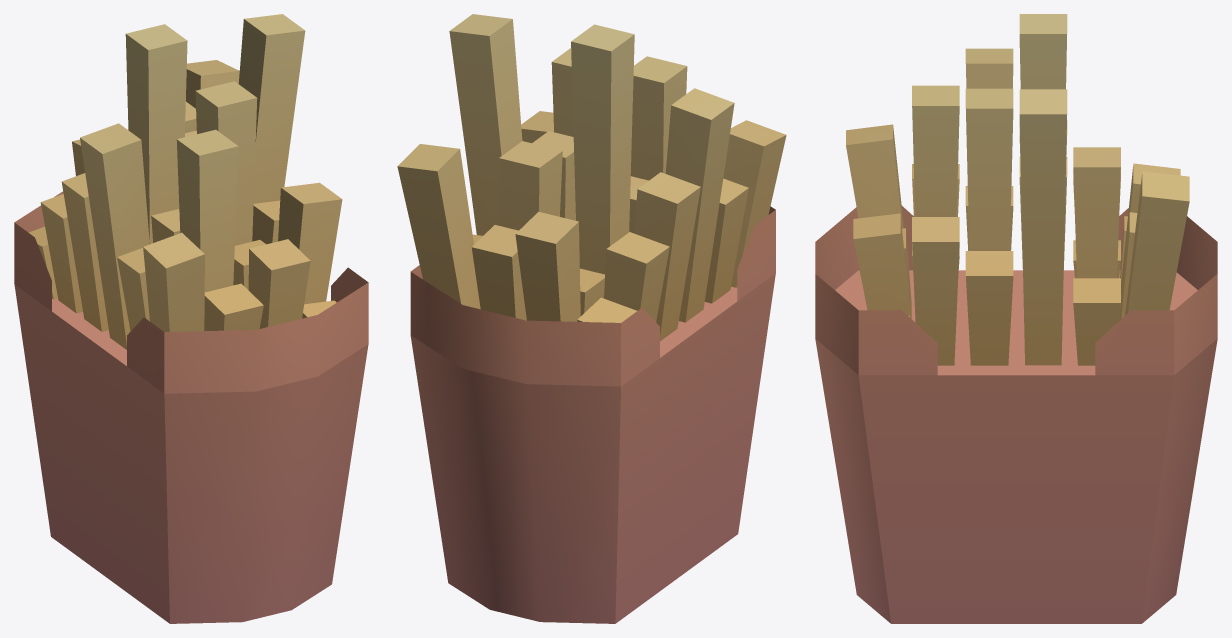
Rendered from fries.glb.
3 views of the same model, side by side, from view 1: azimuth 30°, elevation 25°; view 2: azimuth 150°, elevation 25°; view 3: azimuth 270°, elevation 25° (orthographic). The views are drawn at different scales.
Parts seen in each view (by area): view 1: fries; view 2: fries; view 3: fries.
Part boxes in pixels (x1,y1,x2,y2): fries: [14, 14, 368, 623]; fries: [397, 14, 786, 623]; fries: [815, 14, 1217, 623].
Size of the model in its own units: 0.183 by 0.3977 by 0.2653.
